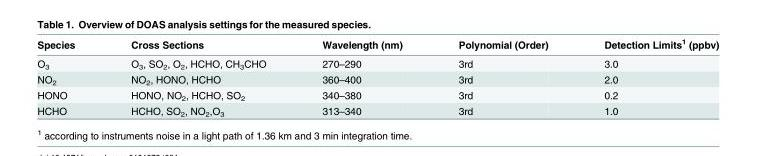table: (36, 36, 718, 117)
table column: (102, 36, 293, 117), (429, 36, 575, 117), (575, 36, 718, 117), (293, 36, 429, 117), (36, 36, 102, 117)
table column header: (36, 36, 718, 53)
table row: (36, 53, 718, 71), (36, 36, 718, 53), (36, 71, 718, 87), (36, 87, 718, 103), (36, 103, 718, 117)
